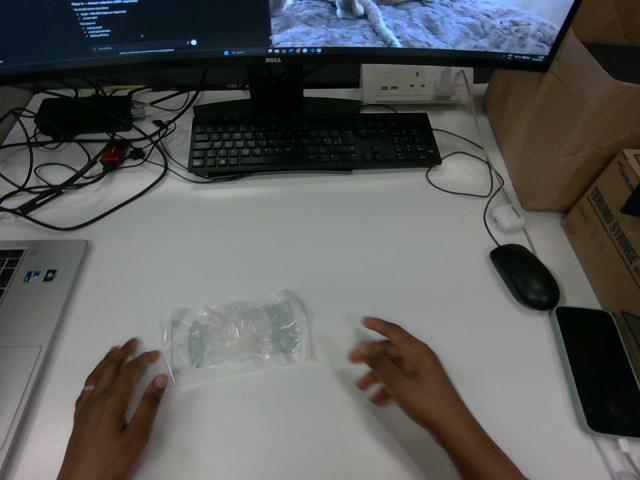gallipot: (161, 291, 310, 384)
